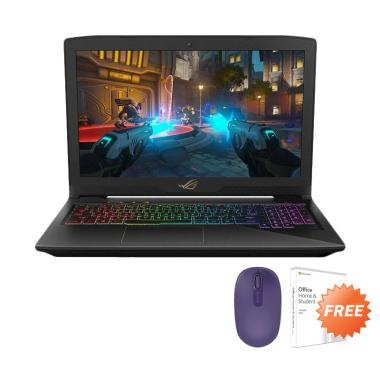Laptop: (31, 30, 351, 266)
